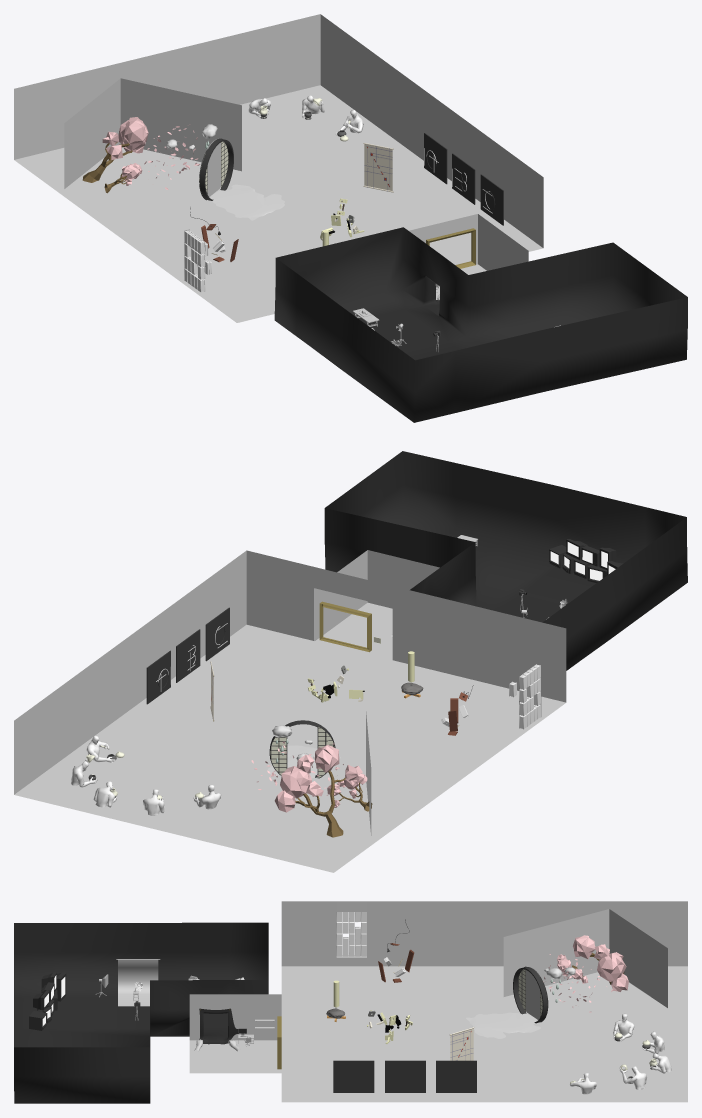
The model's file is stage-test-14.glb.
3 views of the same model, one above another, from view 1: azimuth 30°, elevation 25°; view 2: azimuth 150°, elevation 25°; view 3: azimuth 270°, elevation 25° (orthographic). The views are drawn at different scales.
Visible parts, largest first — view 1: gallery-ground, monitor-screen-world, digital-world, room, scenery-reflection-on-the-ground-modified, typo-graphic-textile.001, glass-brick-window-modified, tree-leaves-low-poly.009, comforting-dinner-baked-johns.003, typo-B-backwall.001, typo-C-backwall.001, typo-A-backwall.001 (+2 smaller); view 2: gallery-ground, monitor-screen-world, digital-world, room, tree-leaves-low-poly.009, comforting-dinner-baked-johns.003, glass-brick-window-modified, typo-C-backwall.001, typo-A-backwall.001, typo-B-backwall.001, paper-screen, picture-frame (+1 smaller); view 3: gallery-ground, monitor-screen-world, digital-world, room, photo-screen.001, comforting-dinner-baked-johns.003, tree-leaves-low-poly.009, typo-C-backwall.001, scenery-reflection-on-the-ground-modified, glass-brick-window-modified, typo-A-backwall.001, typo-B-backwall.001 (+5 smaller).
Part boxes in pixels (x1,y1,x2,y2): gallery-ground: (14,14,543,322); monitor-screen-world: (274,227,687,422); digital-world: (64,78,241,216); room: (409,214,528,299); scenery-reflection-on-the-ground-modified: (210,184,284,220); typo-graphic-textile.001: (364,143,392,192); glass-brick-window-modified: (184,230,211,292); tree-leaves-low-poly.009: (102,117,148,160); comforting-dinner-baked-johns.003: (248,95,363,135); typo-B-backwall.001: (452,153,475,204); typo-C-backwall.001: (480,174,503,225); typo-A-backwall.001: (424,133,447,184); gallery-ground: (14,550,566,872); monitor-screen-world: (324,451,687,670); digital-world: (240,711,371,839); room: (315,550,439,660); tree-leaves-low-poly.009: (274,745,362,812); comforting-dinner-baked-johns.003: (71,735,221,815); glass-brick-window-modified: (509,664,540,729); typo-C-backwall.001: (205,607,229,661); typo-A-backwall.001: (146,650,170,704); typo-B-backwall.001: (176,629,200,682); paper-screen: (269,726,335,778); picture-frame: (319,601,371,652); gallery-ground: (281,901,687,1102); monitor-screen-world: (14,922,268,1103); digital-world: (503,909,667,1036); room: (189,994,281,1073); photo-screen.001: (118,959,158,1006); comforting-dinner-baked-johns.003: (570,1013,671,1094); tree-leaves-low-poly.009: (573,935,628,991); typo-C-backwall.001: (333,1060,374,1092); scenery-reflection-on-the-ground-modified: (466,1012,540,1038); glass-brick-window-modified: (336,912,366,956); typo-A-backwall.001: (436,1060,476,1092); typo-B-backwall.001: (385,1060,425,1092).
Size of the model in its own units: 361 by 83.06 by 741.
50 materials, 1 textured.
